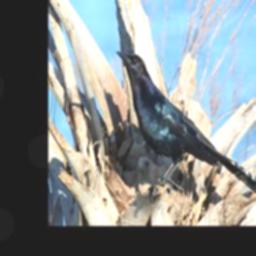Crow: (115, 50, 256, 203)
